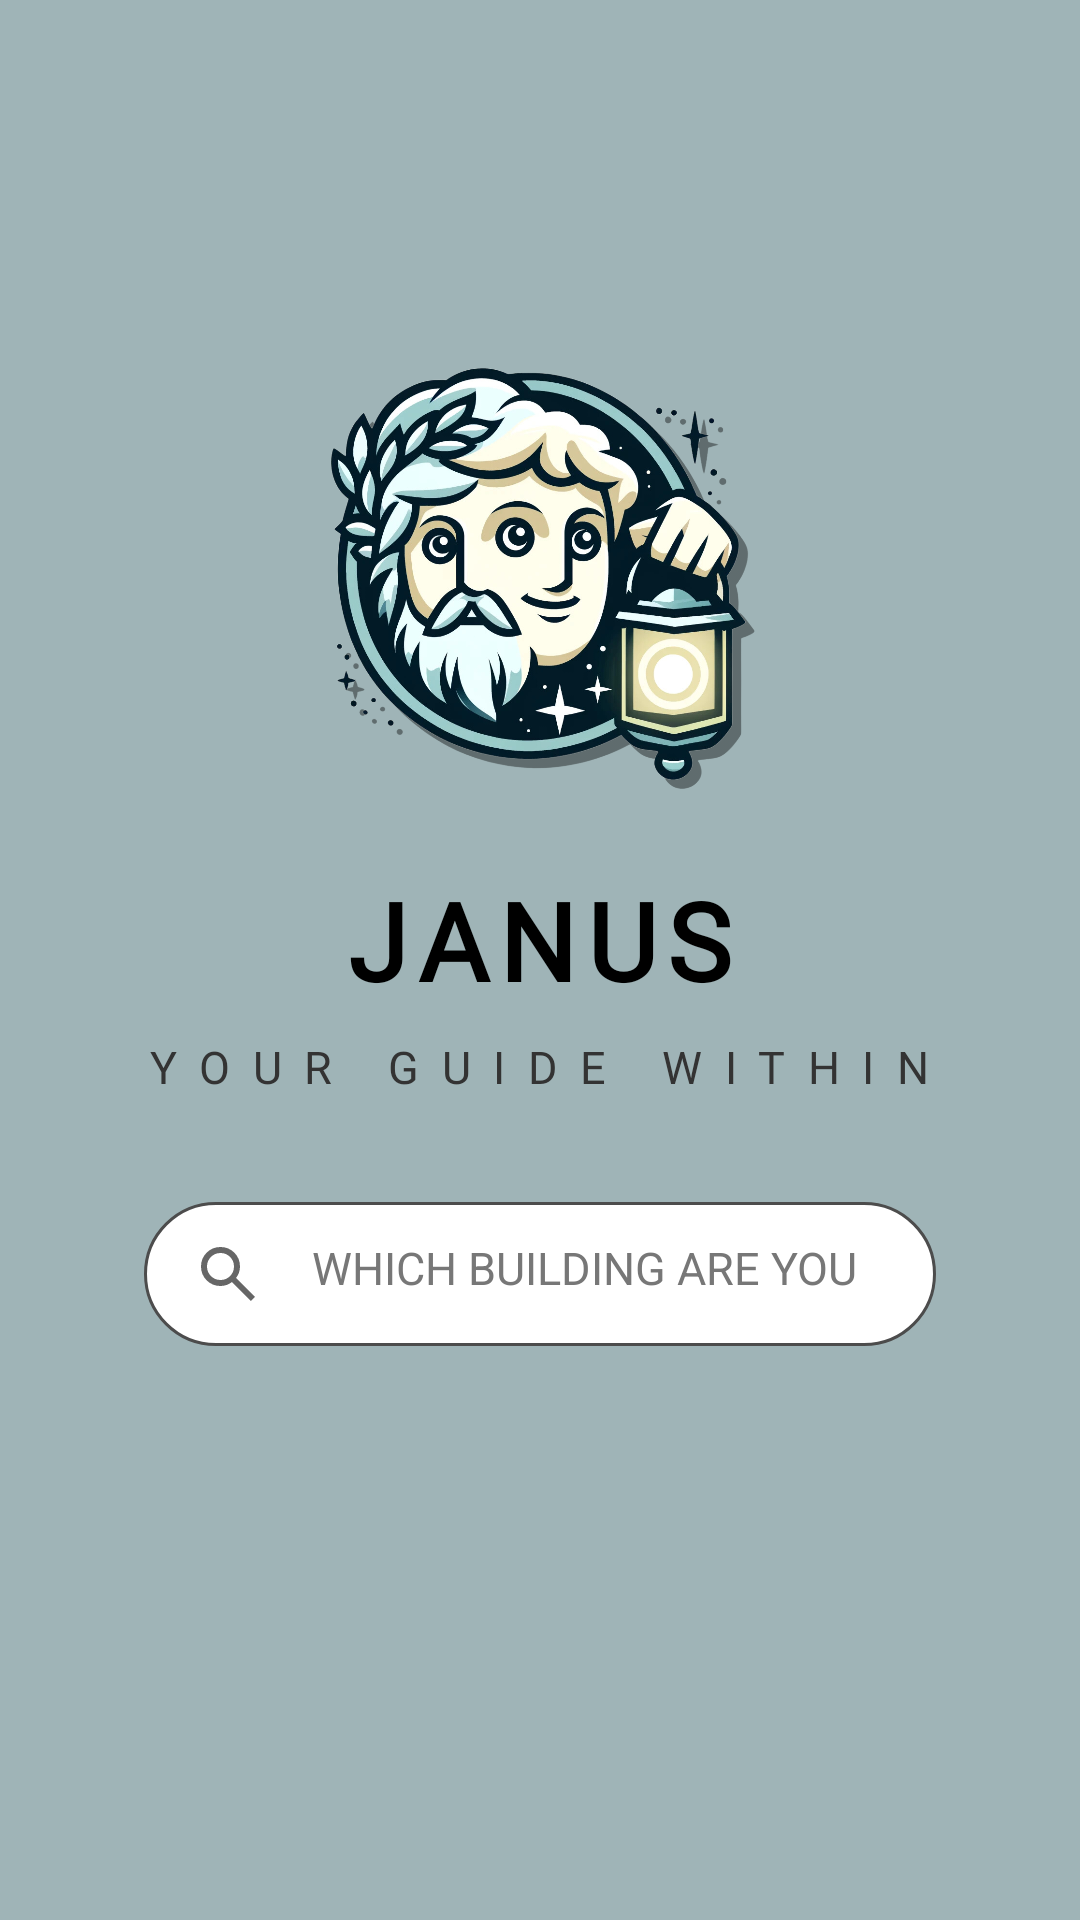

Named icons in this screenshot (1080×1920) and their centers, (x=x, y=y):
Search icon: (x=228, y=1274)
